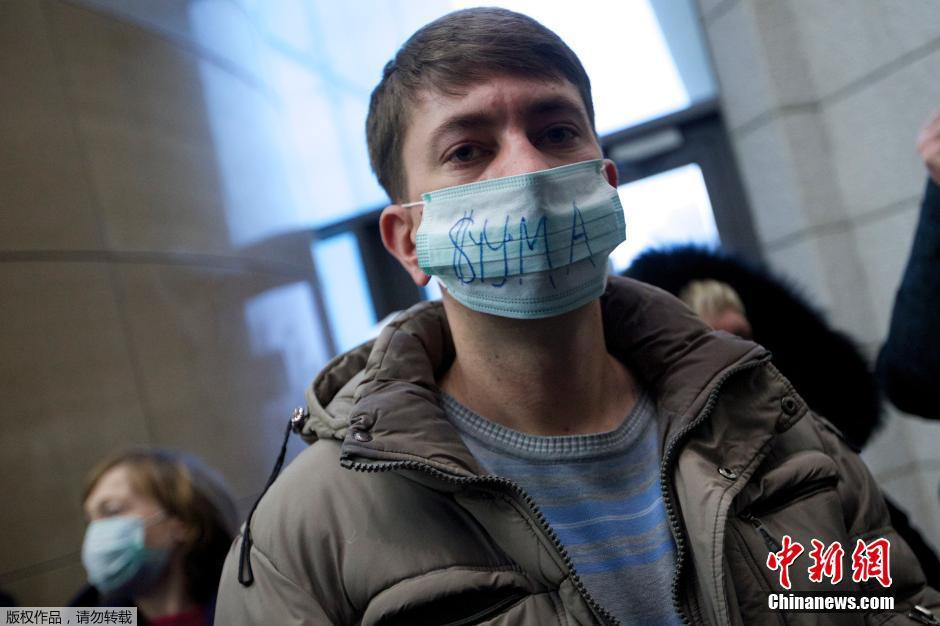OK: (81, 484, 167, 596)
WRONG: (410, 83, 613, 324)
